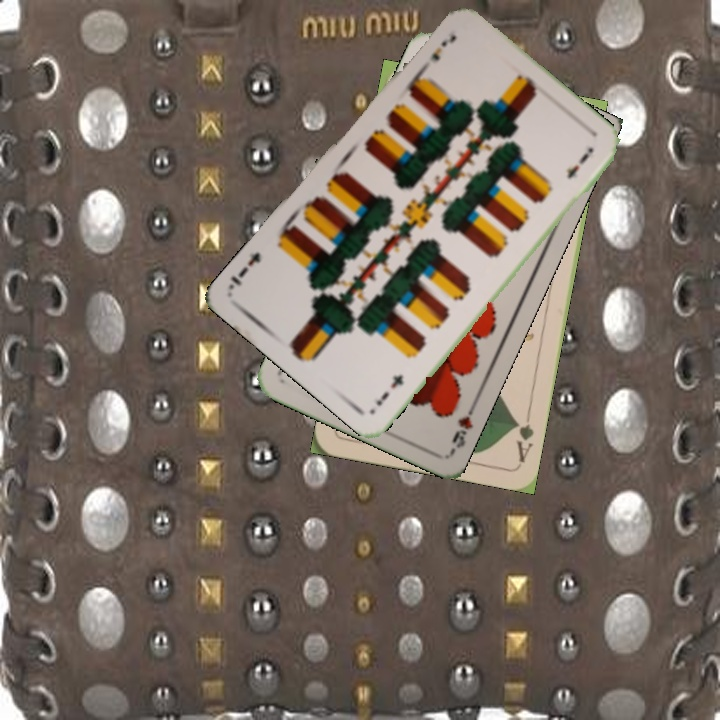E7: (416, 31, 459, 75), (372, 370, 407, 409)
GA: (511, 406, 537, 466)
H9: (447, 398, 479, 454)
